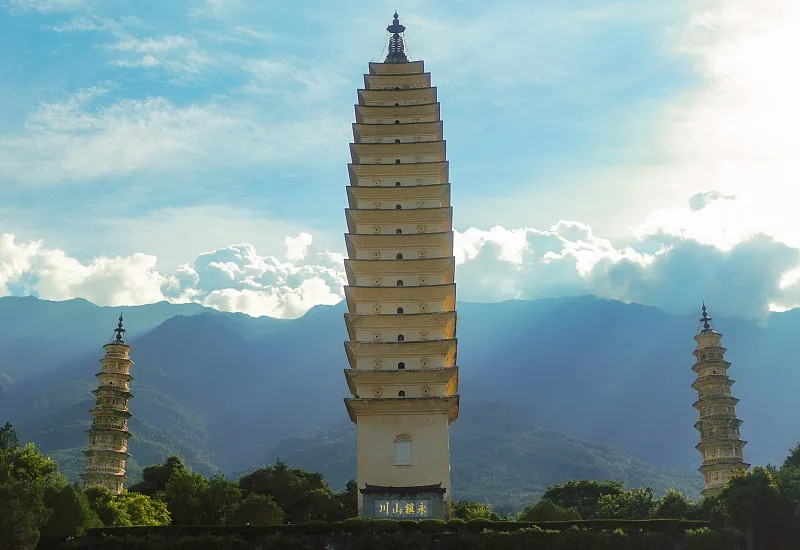ThreePagoda: (343, 10, 460, 522)
